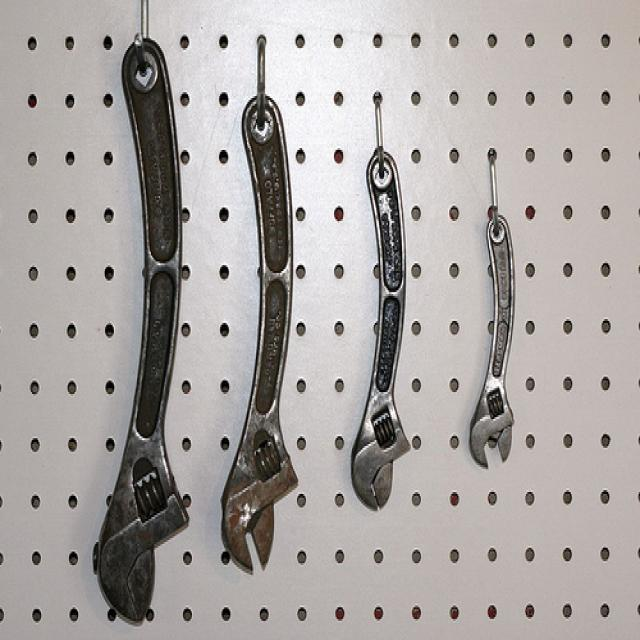wrench: (83, 7, 206, 638), (199, 79, 318, 590), (341, 148, 426, 546), (464, 174, 524, 496)
